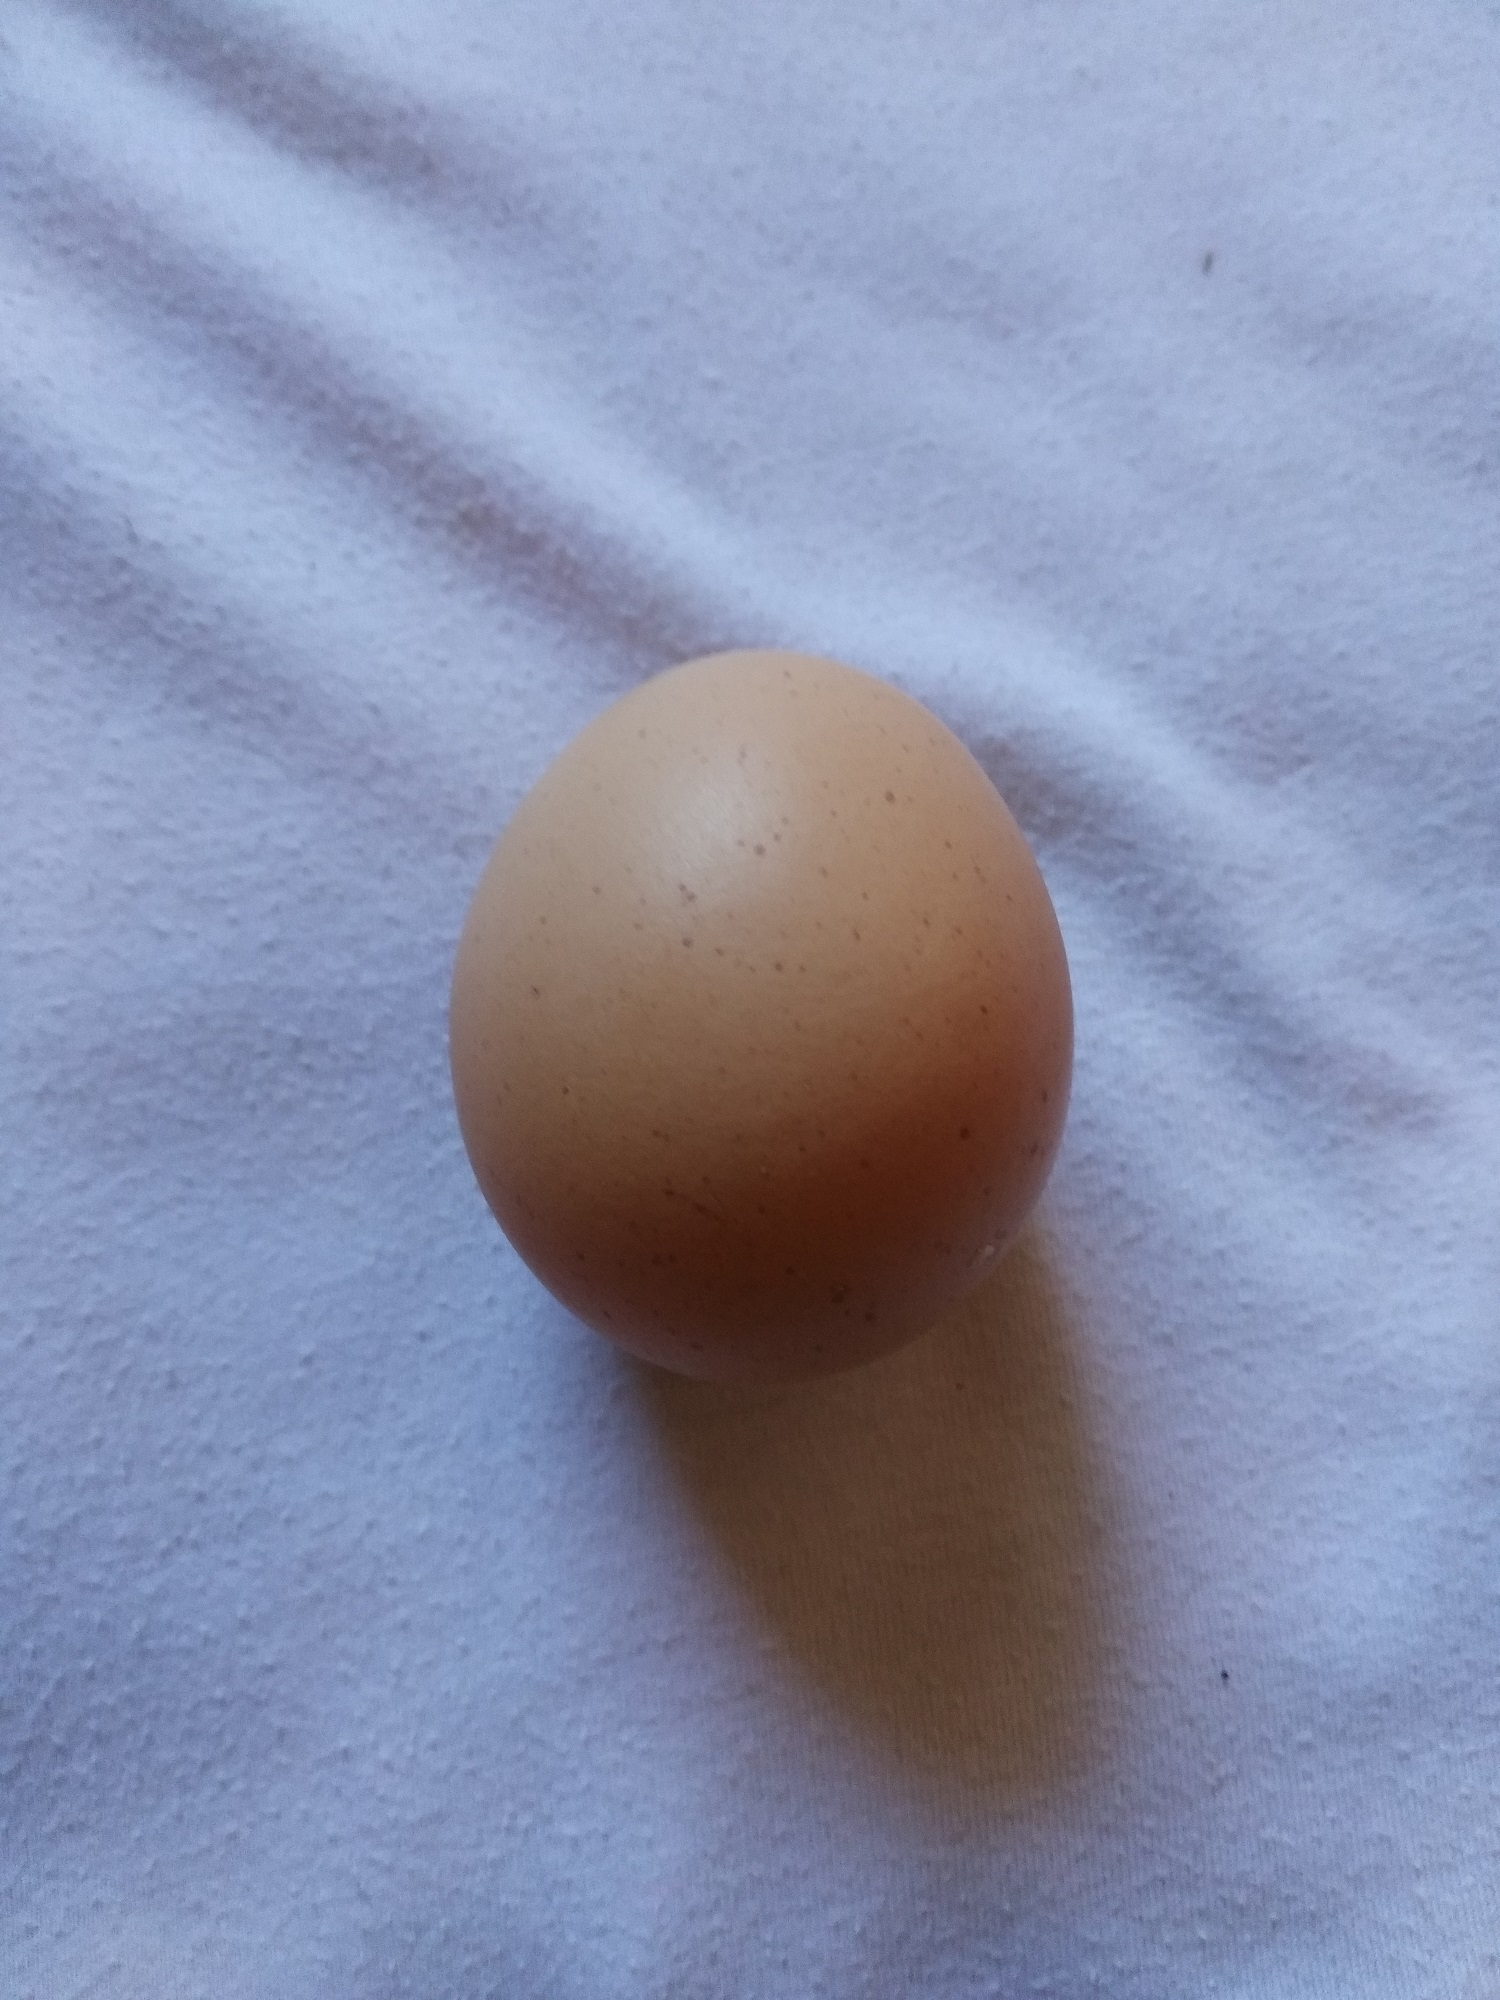Female: (440, 638, 1079, 1389)
